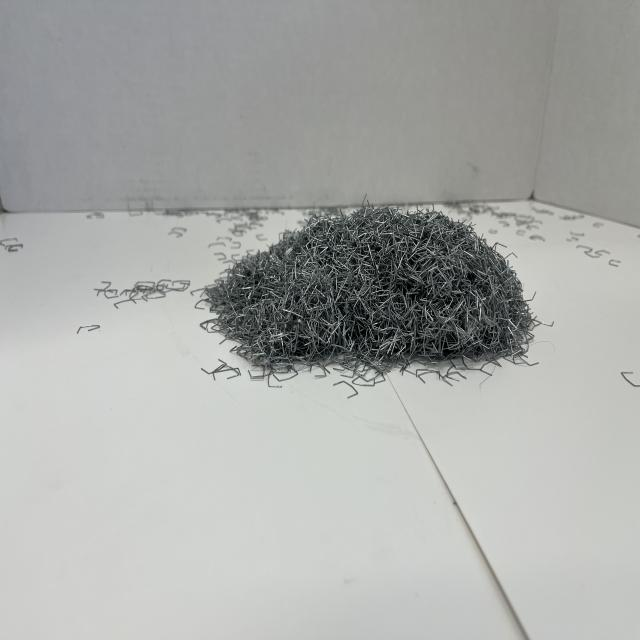staples: (194, 202, 550, 379)
